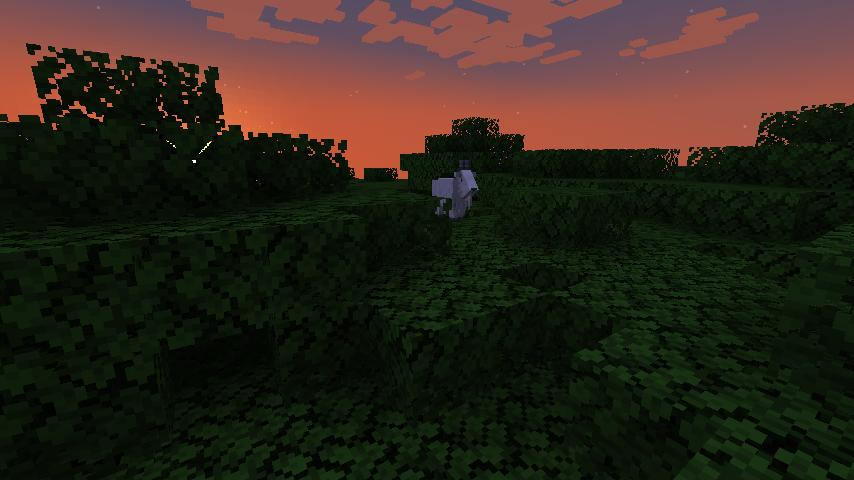goat: (430, 160, 480, 220)
